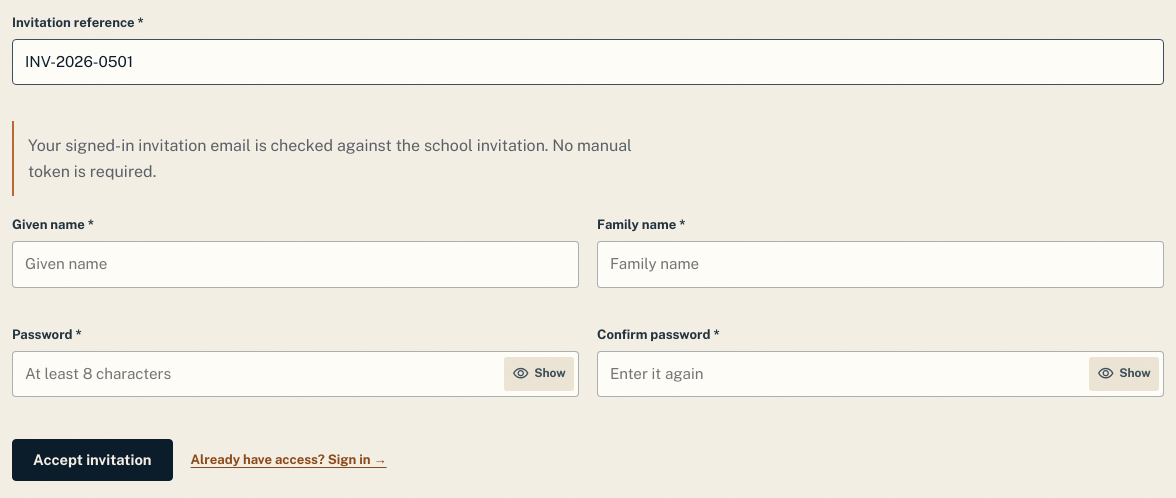
StaffInvitationForm › uses the verified Auth invitation session in Supabase mode instead of rendering a manual token field
In the field labelled "Given name *": (296, 265) [12,242,579,288], type "New"
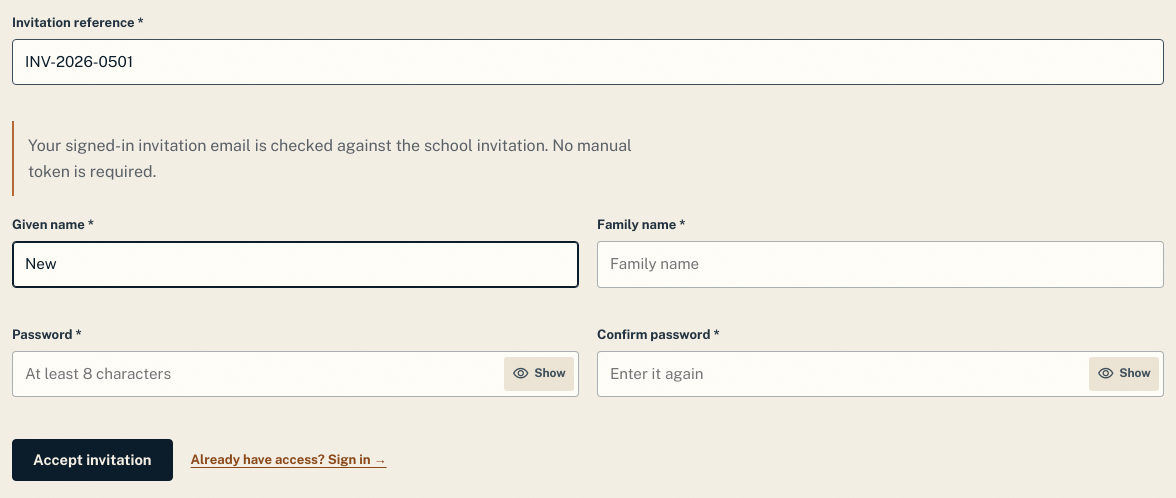
In the field labelled "Family name *": (880, 265) [597,242,1164,288], type "Teacher"
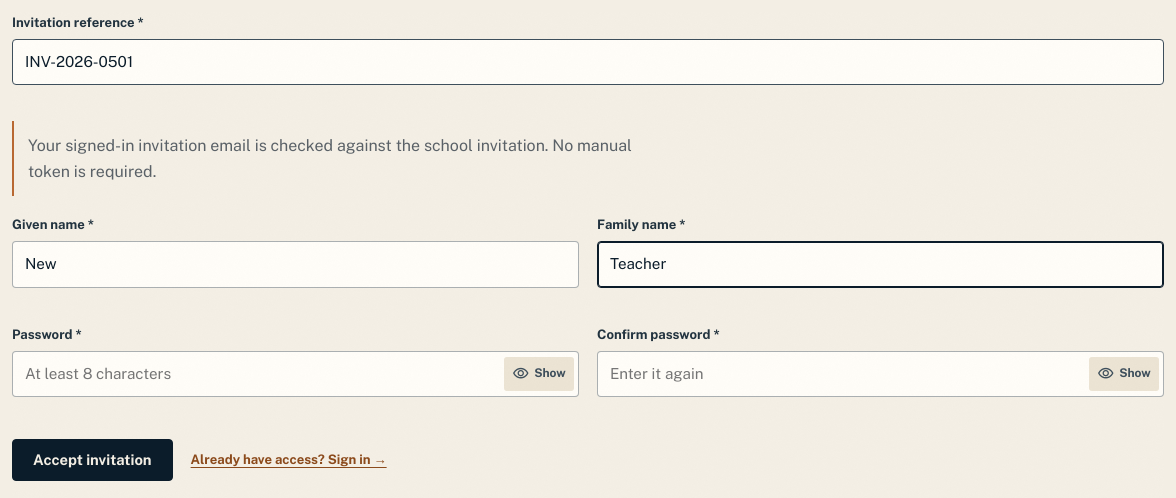
In the password field labelled "Password *": (296, 374) [12,351,579,397], type "SecurePass9"
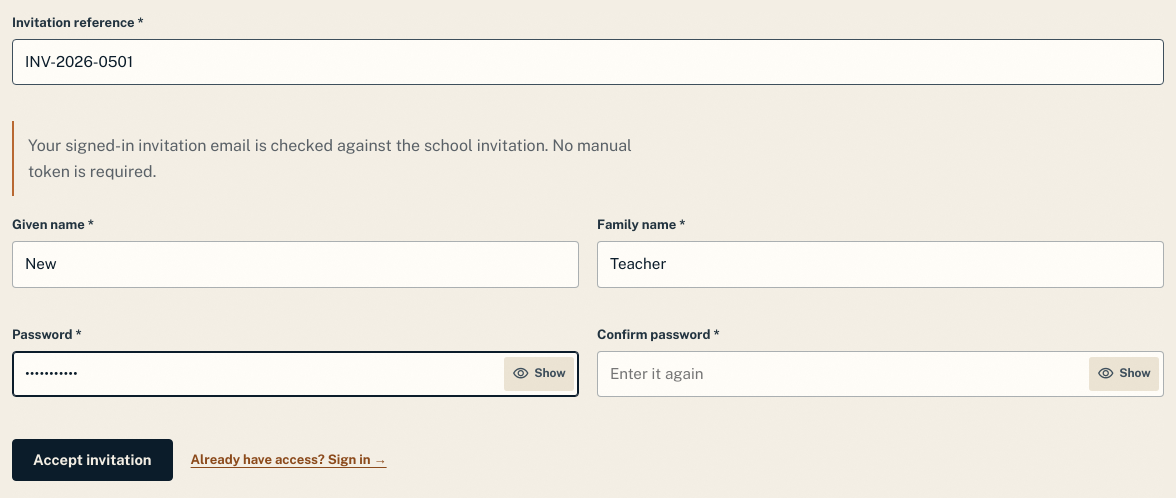
In the password field labelled "Confirm password *": (880, 374) [597,351,1164,397], type "SecurePass9"
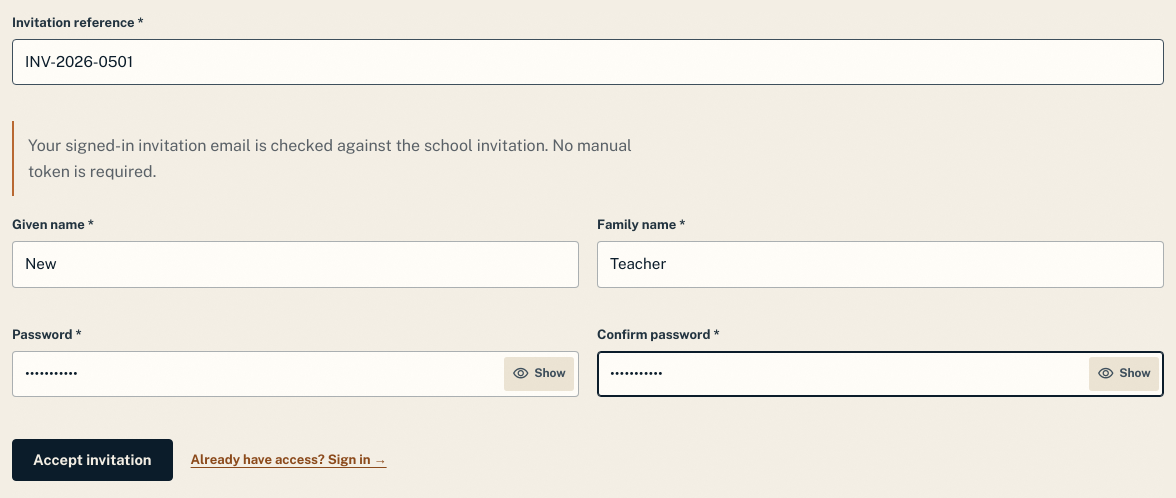
Click the button "Accept invitation": (92, 460) [12,439,173,481]
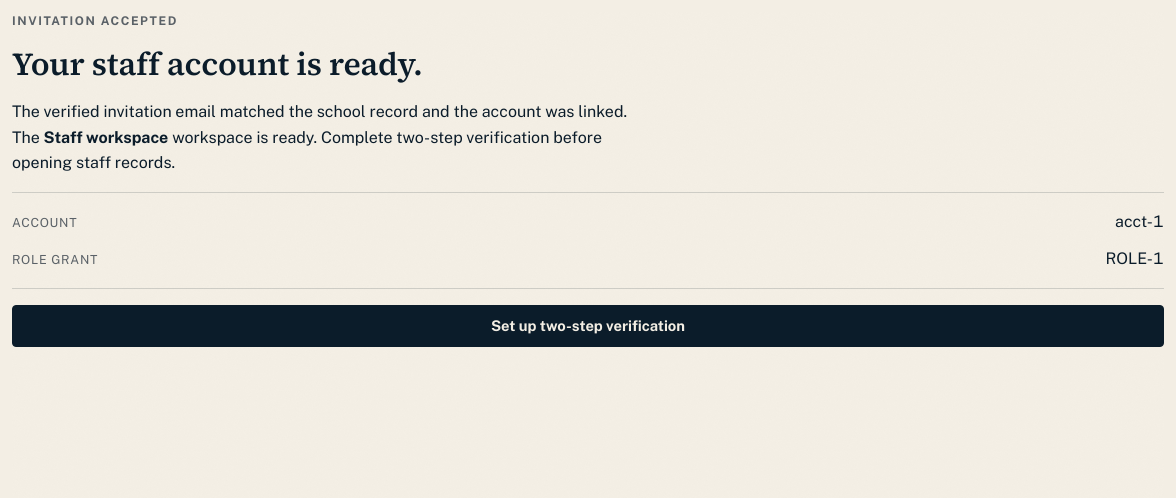
Now the heading "Your staff account is ready." is shown, box [12,42,423,86]
